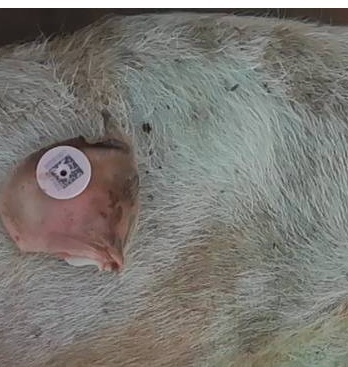text: (23, 134, 99, 214)
